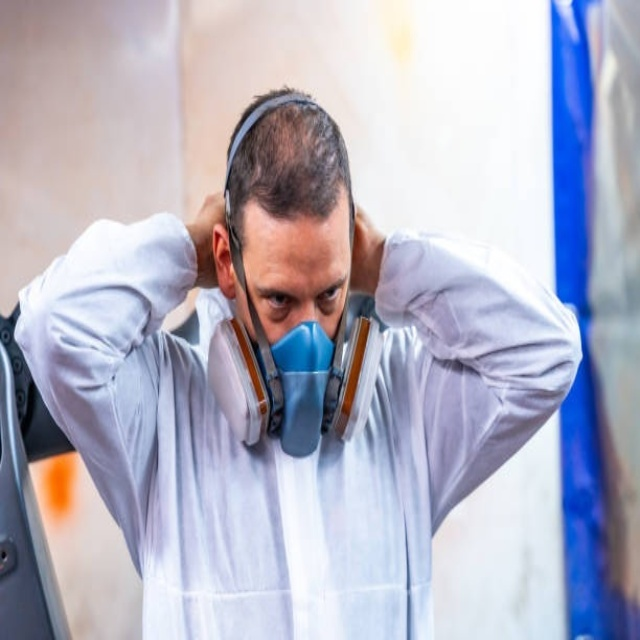Mascara: (266, 319, 337, 460)
Sin_gafas: (253, 264, 349, 312)
